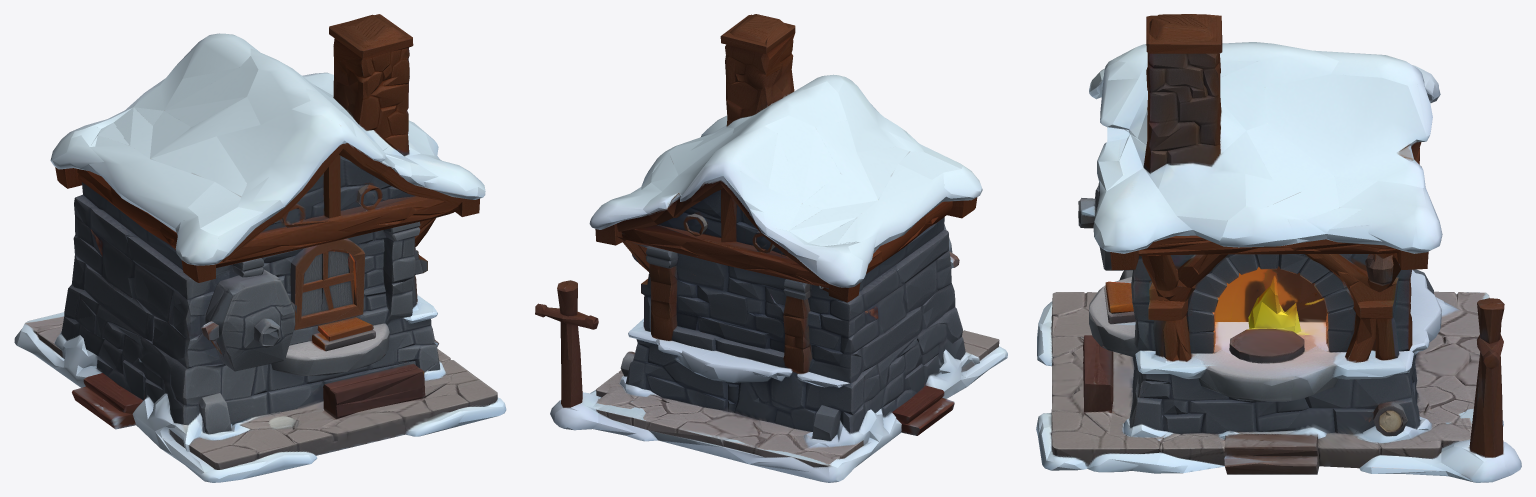
The model's file is blacksmith.glb.
The picture shows the model from 3 angles, left to right: view 1: azimuth 30°, elevation 25°; view 2: azimuth 150°, elevation 25°; view 3: azimuth 270°, elevation 25°; orthographic projection. The views are drawn at different scales.
Size of the model in its own units: 1.8 by 1.77 by 1.9.
Materials: 1 (1 with a texture image).
